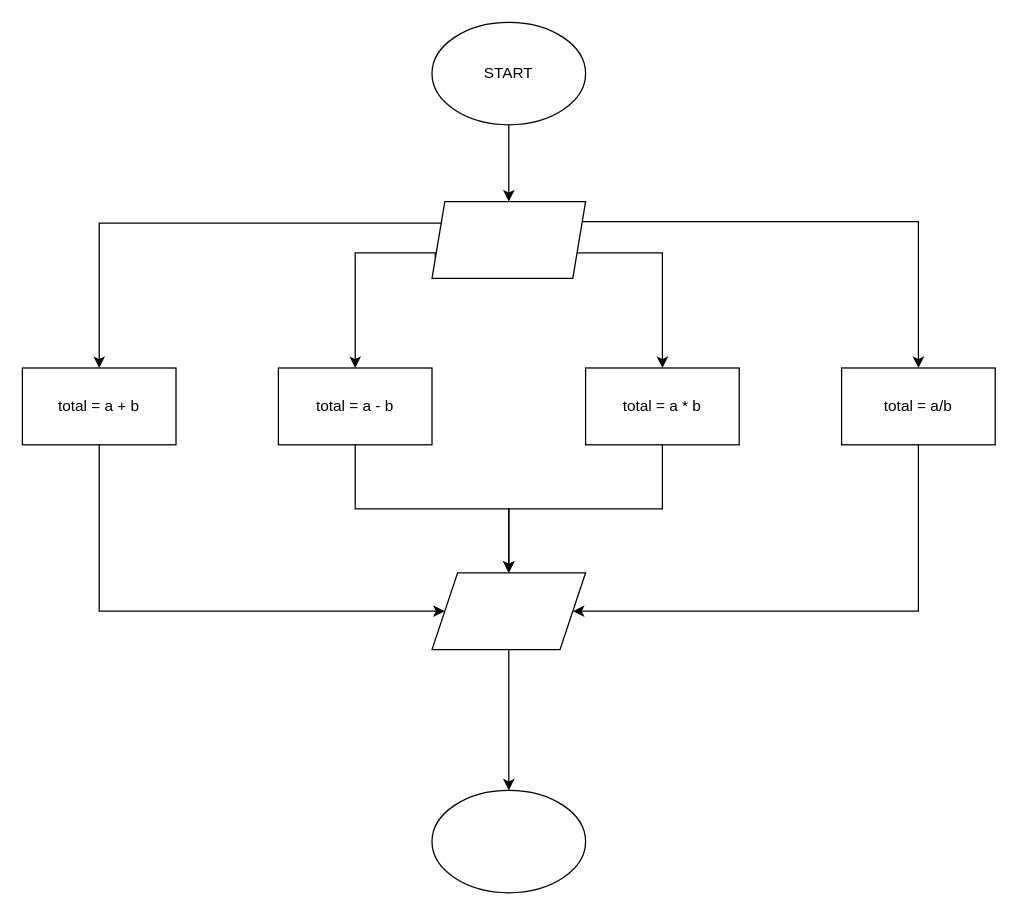
The diagram is 1018 pixels wide and 915 high, and some of its shapes have lost their labels. Each missing label, with the box of its shape:
Nhập a,b,total: (431, 200, 586, 278)
total: (431, 572, 586, 650)
